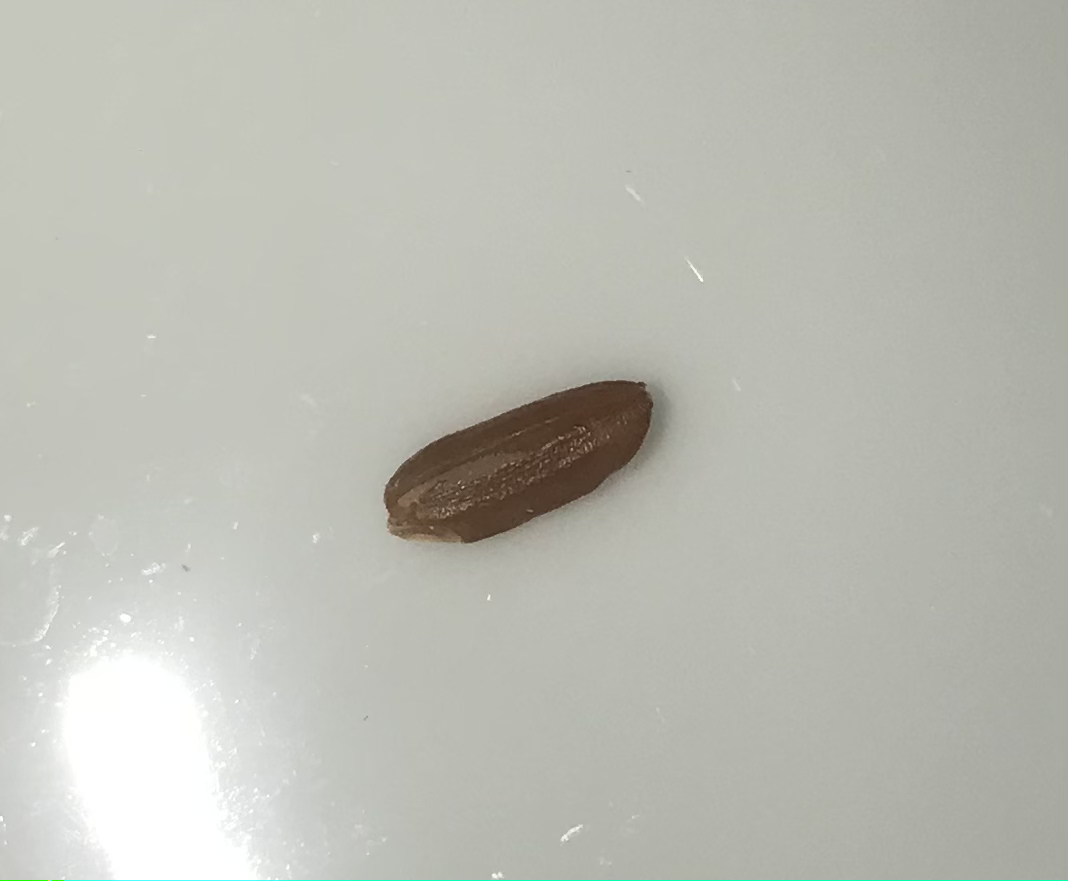Gao Lut Dien Bien: (364, 360, 667, 562)
